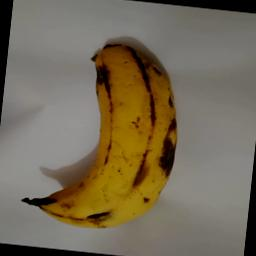Banana Unripe: (16, 30, 188, 236)
